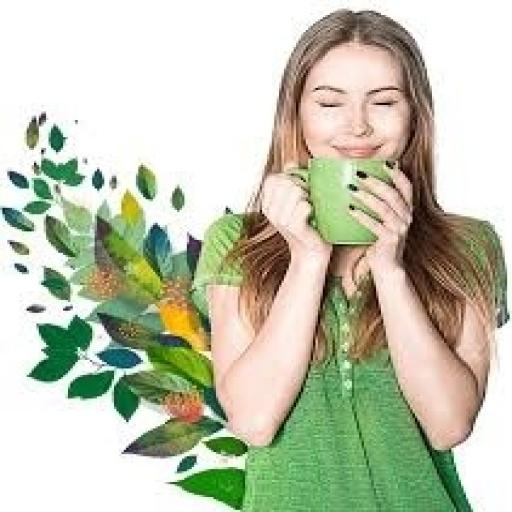drinking: (284, 154, 398, 246)
